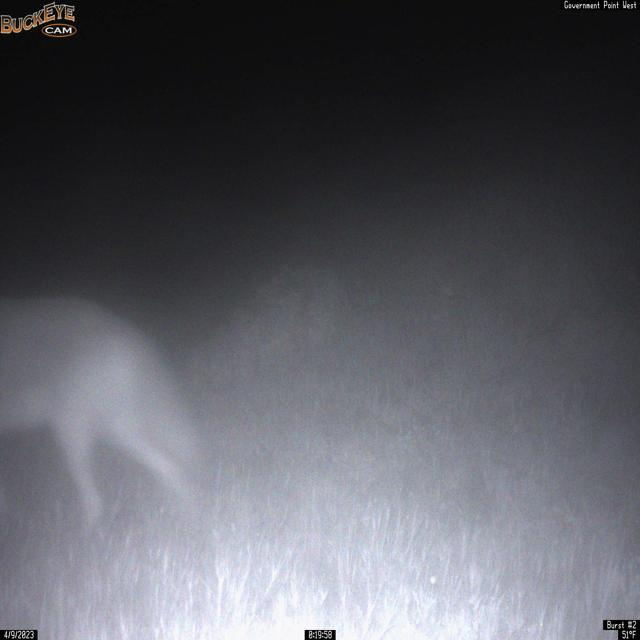coyote: (0, 293, 217, 542)
